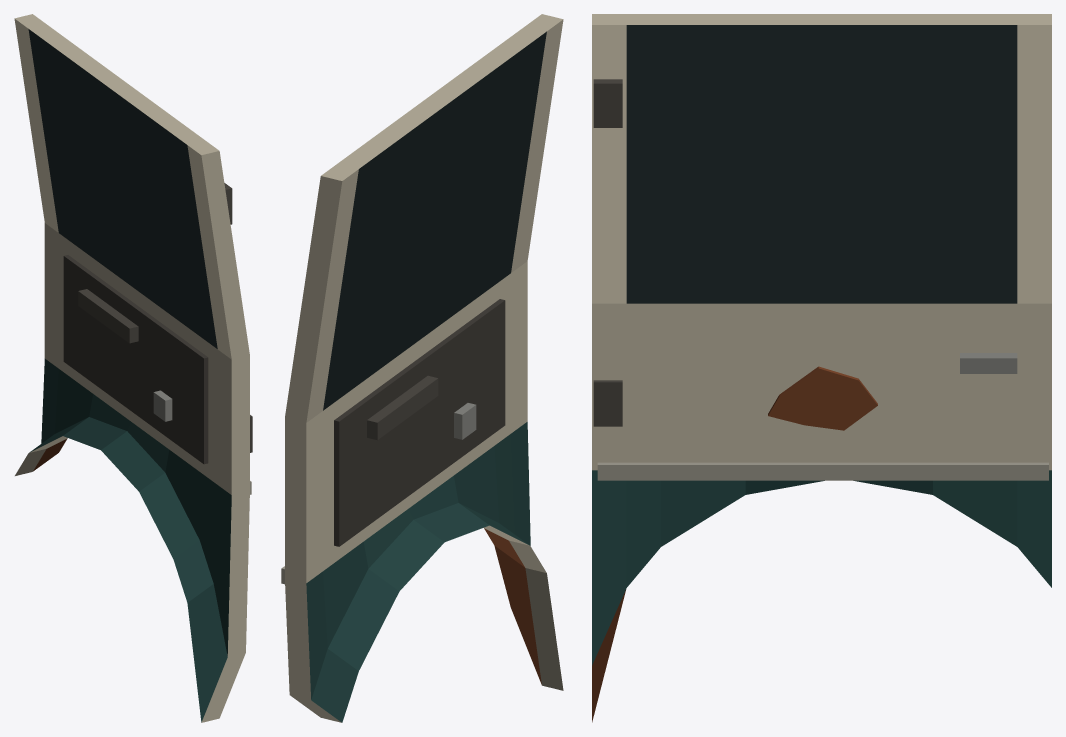
File: carro_porta.glb
The picture shows the model from 3 angles, left to right: view 1: azimuth 30°, elevation 25°; view 2: azimuth 150°, elevation 25°; view 3: azimuth 270°, elevation 25°; orthographic projection. The views are drawn at different scales.
Parts seen in each view (by area): view 1: carro_porta.001; view 2: carro_porta.001; view 3: carro_porta.001.
Boxes of the visible parts, bbox=[...] form: carro_porta.001: bbox=[14, 14, 252, 722]; carro_porta.001: bbox=[281, 14, 563, 722]; carro_porta.001: bbox=[592, 14, 1051, 722].
Size of the model in its own units: 0.142 by 1.34 by 0.8.
